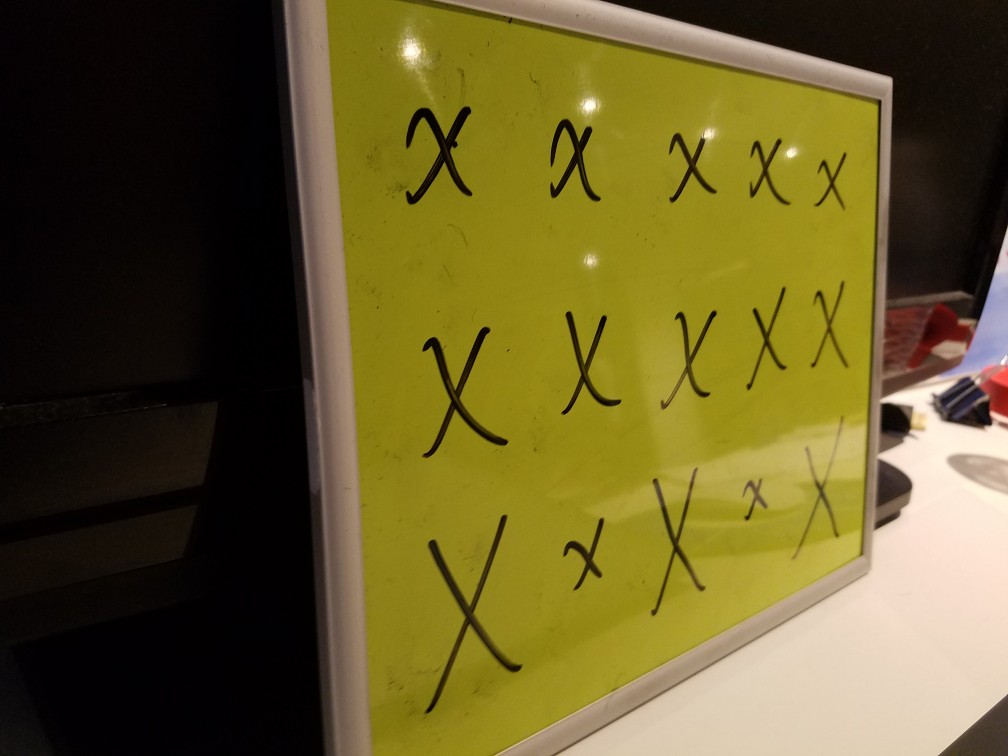x: (412, 489, 523, 716), (409, 291, 515, 464), (634, 453, 721, 617), (388, 80, 492, 216), (544, 300, 618, 422), (735, 273, 797, 406), (654, 295, 723, 411), (789, 422, 848, 551), (538, 106, 603, 210), (803, 269, 856, 383), (654, 121, 717, 216), (548, 517, 610, 599), (733, 127, 787, 212), (809, 138, 854, 220), (742, 473, 773, 532)
